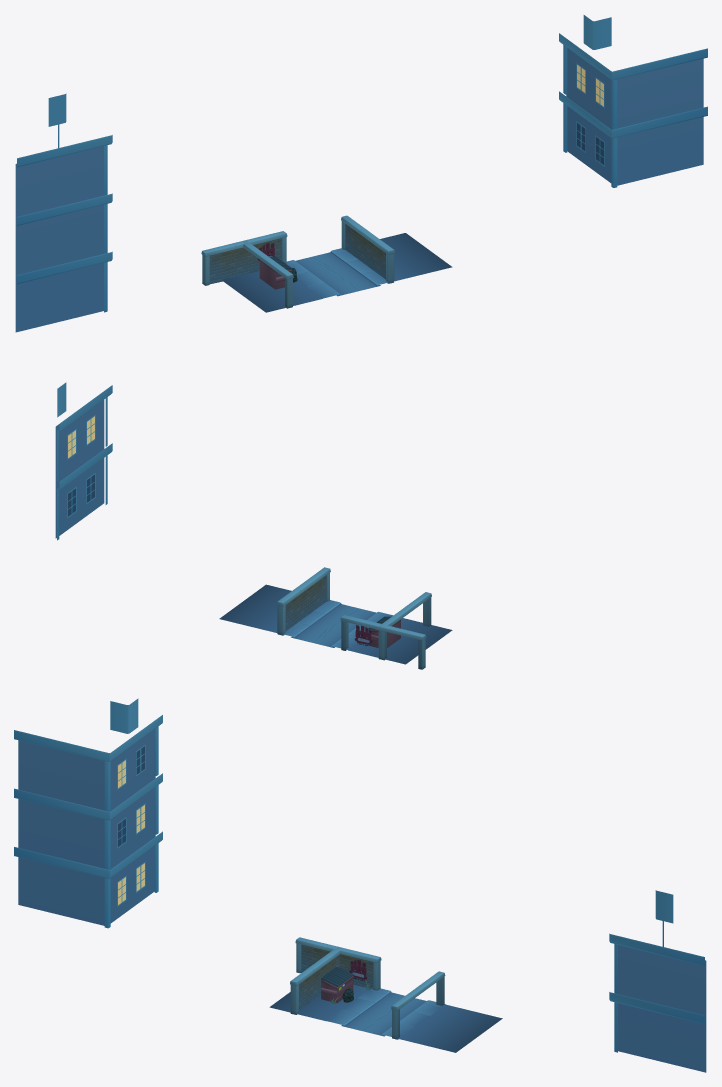
Rendered from UrbanBrickWalls01.prefab.glb.
3 renders of one model, top to bottom at view 1: azimuth 30°, elevation 25°; view 2: azimuth 150°, elevation 25°; view 3: azimuth 330°, elevation 25°, orthographic.
Parts seen in each view (by area): view 1: FarBackBuilding01, UrbanBrickWalls01, BrickWall (2), BrickWall, BrickWall (1), DumpsterRed; view 2: FarBackBuilding01, UrbanBrickWalls01, BrickWall, BrickWall (2), BrickWall (1); view 3: FarBackBuilding01, UrbanBrickWalls01, BrickWall (2), BrickWall (1), BrickWall, DumpsterRed.
Part boxes in pixels (bbox=[...]): FarBackBuilding01: bbox=[15, 15, 707, 332]; UrbanBrickWalls01: bbox=[222, 233, 452, 312]; BrickWall (2): bbox=[201, 231, 287, 285]; BrickWall: bbox=[341, 215, 394, 283]; BrickWall (1): bbox=[242, 240, 293, 308]; DumpsterRed: bbox=[259, 256, 292, 289]; FarBackBuilding01: bbox=[55, 382, 112, 540]; UrbanBrickWalls01: bbox=[219, 584, 452, 664]; BrickWall: bbox=[276, 567, 330, 635]; BrickWall (2): bbox=[340, 615, 426, 669]; BrickWall (1): bbox=[378, 592, 431, 660]; FarBackBuilding01: bbox=[14, 698, 706, 1072]; UrbanBrickWalls01: bbox=[269, 984, 502, 1052]; BrickWall (2): bbox=[295, 937, 381, 990]; BrickWall (1): bbox=[290, 947, 342, 1014]; BrickWall: bbox=[391, 971, 445, 1039]; DumpsterRed: bbox=[320, 967, 353, 1003].
Size of the model in its own units: 76.34 by 26.74 by 10.17.
5 materials, 4 textured.
